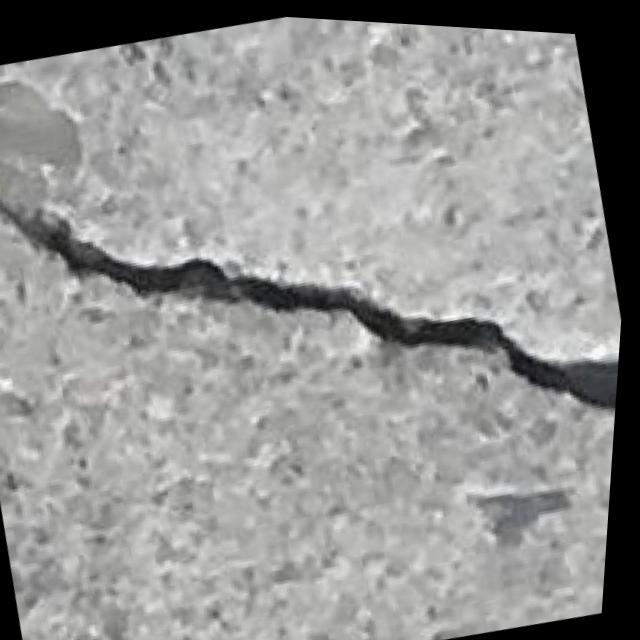Crack: (0, 7, 640, 543)
